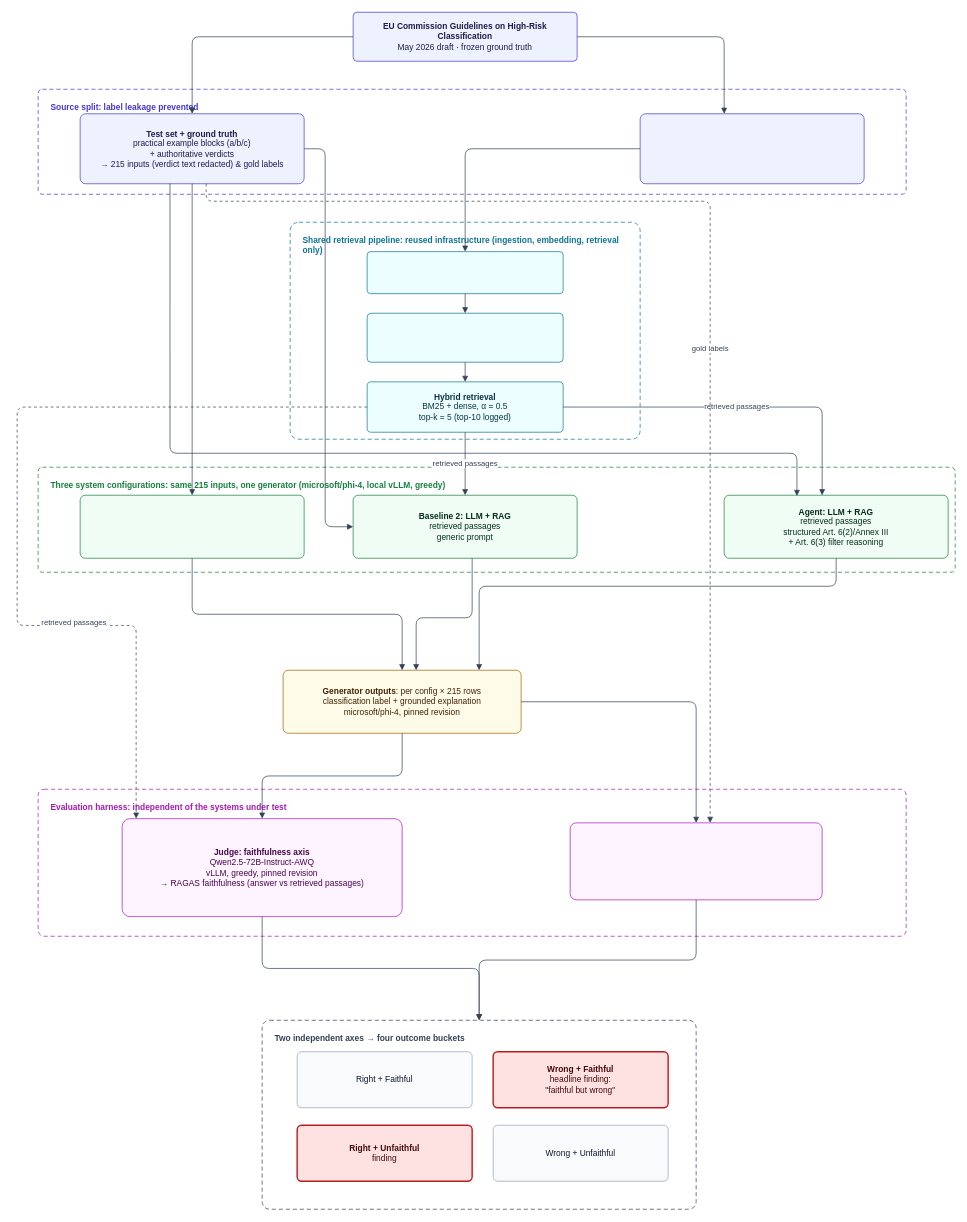
The diagram is 967 pixels wide and 1222 high, and some of its shapes have lost their labels. The shapes that lost their labels are listed below. From the top down, each one's centre as x and y in pixels, then its label:
At [751,148]: "Retrieval corpus normative text, sections 2.x & 3.x → 400 structural chunks".
At [464,272]: "Embed BAAI/bge-base-en-v1.5".
At [464,337]: "Index Chroma (cosine, persistent) + BM25 sparse (in-memory)".
At [191,526]: "Baseline 1: LLM only no retrieval label + short reason".
At [695,861]: "Label: correctness axis generator label vs frozen gold pure lookup, no model".
